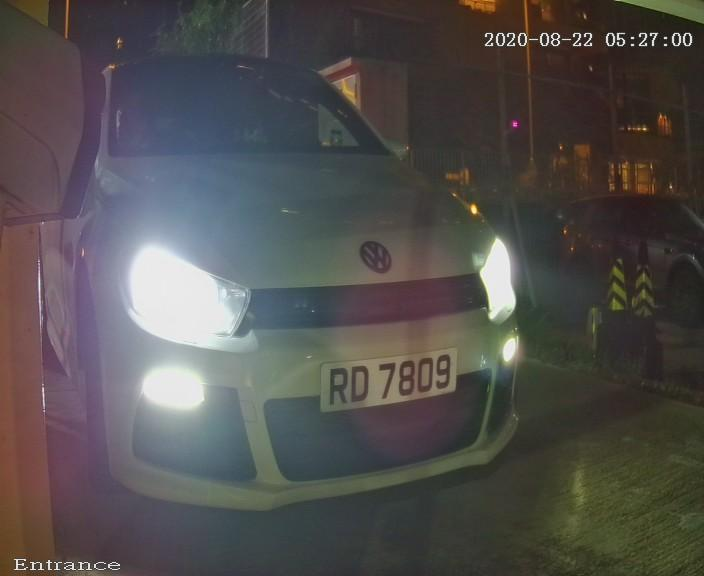Car: (13, 19, 610, 533)
License Plate: (306, 328, 474, 423)
